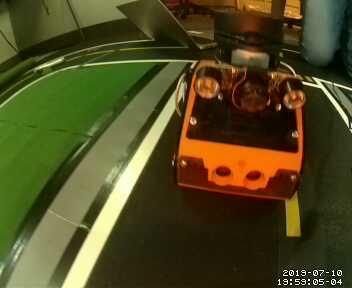pheeno: (172, 15, 305, 200)
